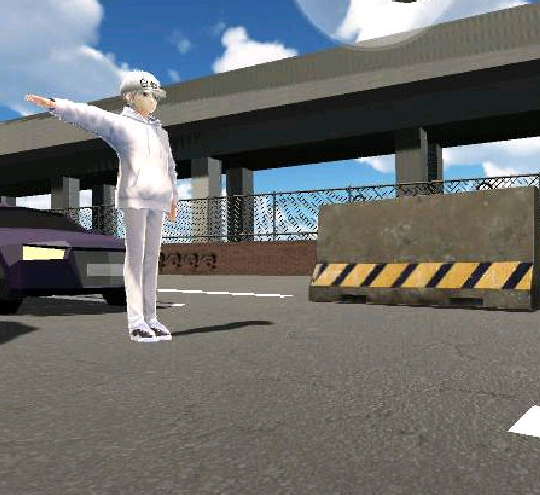singleP_left: (11, 65, 185, 345)
